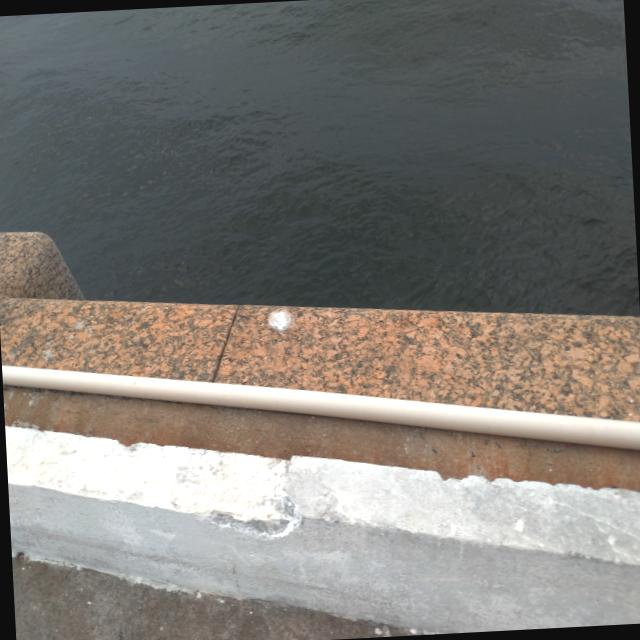gas: (2, 363, 640, 448)
